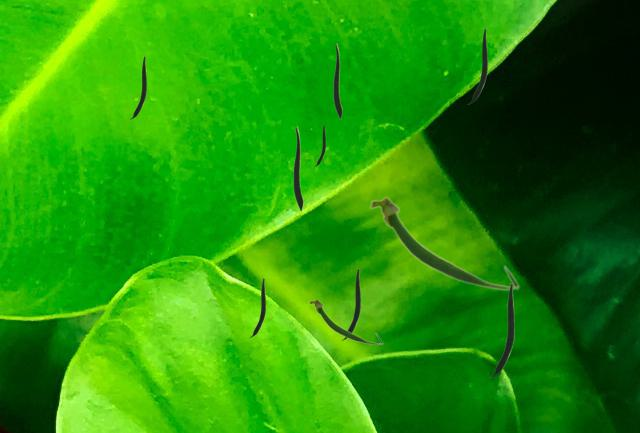french_bean: (368, 196, 519, 290), (308, 298, 382, 344), (490, 283, 513, 376), (468, 28, 486, 103), (342, 268, 359, 339), (130, 56, 145, 118), (250, 278, 264, 336), (293, 126, 302, 210), (333, 43, 341, 118), (315, 124, 324, 165)
